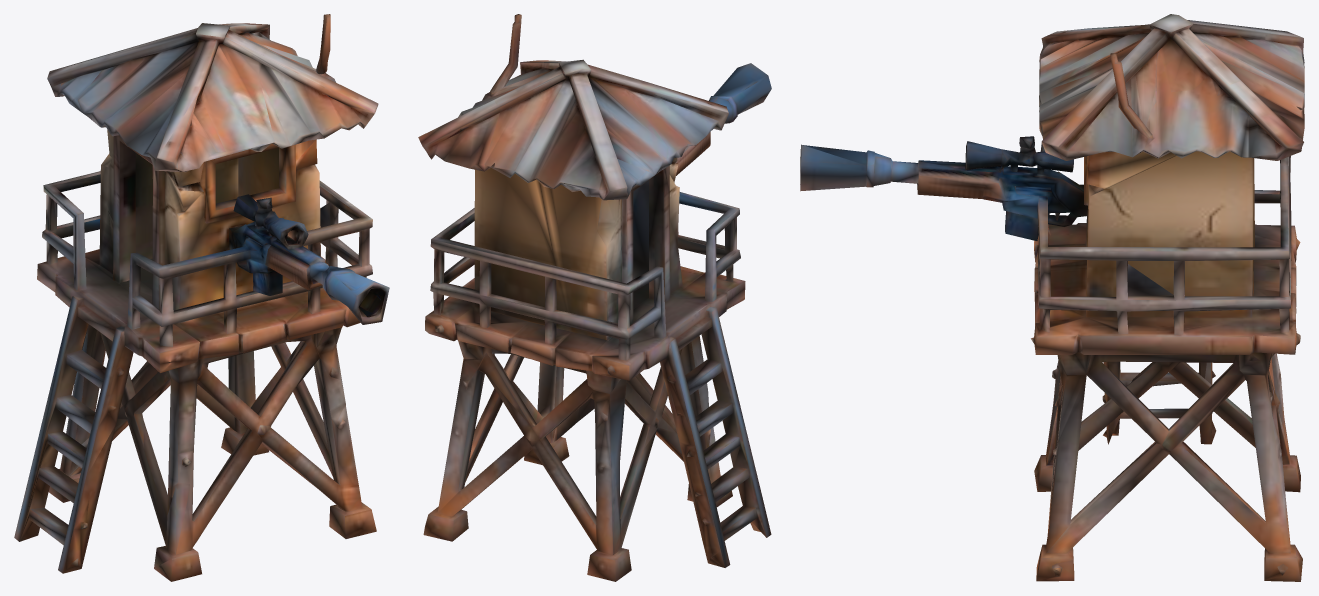
The model's file is jujita-2.glb.
3 views of the same model, side by side, from view 1: azimuth 30°, elevation 25°; view 2: azimuth 150°, elevation 25°; view 3: azimuth 270°, elevation 25° (orthographic). The views are drawn at different scales.
Visible parts, largest first — view 1: node_0; view 2: node_0; view 3: node_0.
Boxes of the visible parts, x1=… form: node_0: x1=14, y1=14, x2=389, y2=581; node_0: x1=418, y1=14, x2=771, y2=581; node_0: x1=800, y1=14, x2=1304, y2=581.
Bounding box in the file's own units: 0.5177 × 0.8356 × 0.7333.
Materials: 1 (1 with a texture image).
